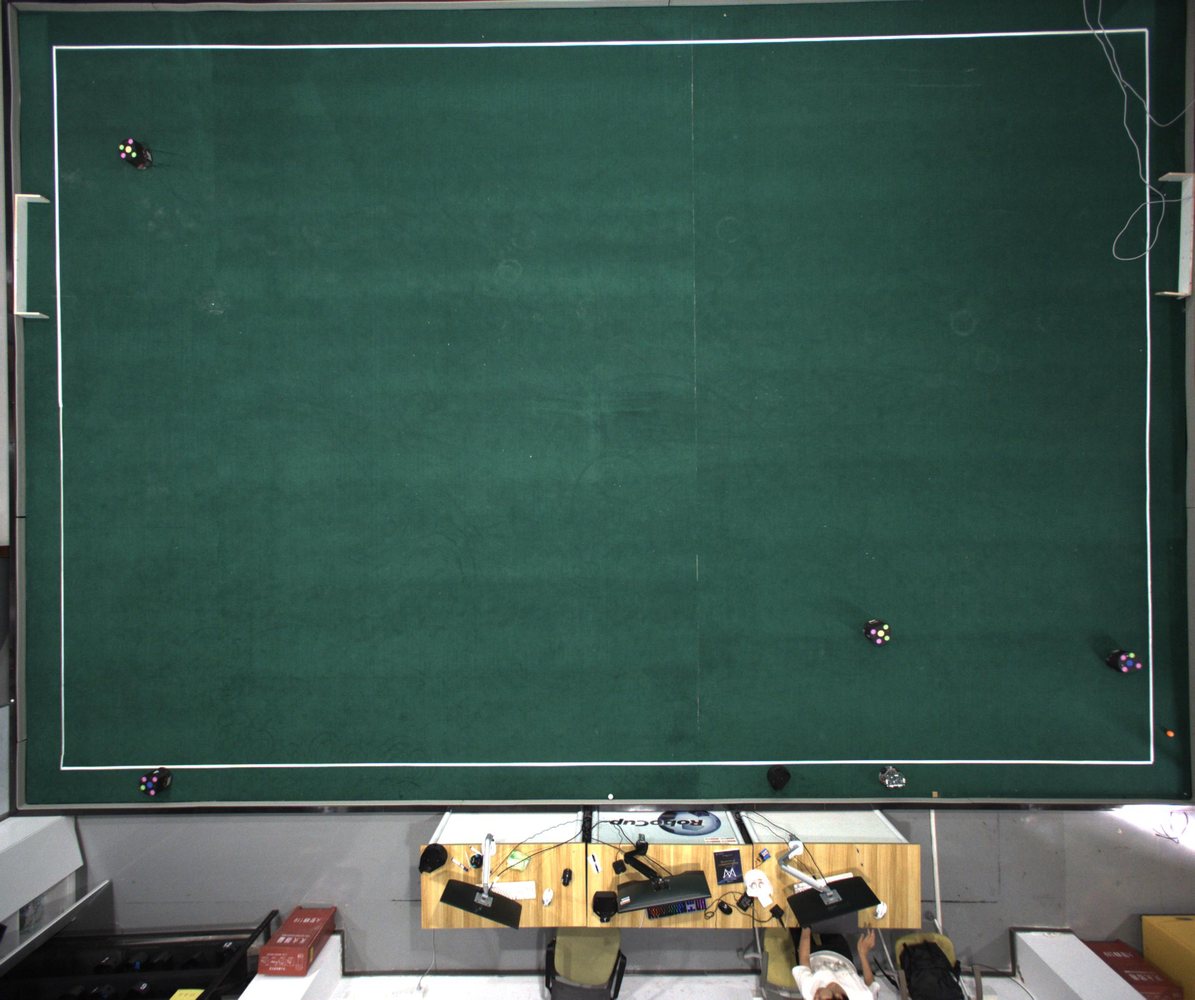ball: (1167, 730, 1176, 738)
blue_bot: (1117, 652, 1143, 674), (140, 775, 160, 796)
yellow_bot: (869, 623, 892, 645), (119, 138, 138, 161)
